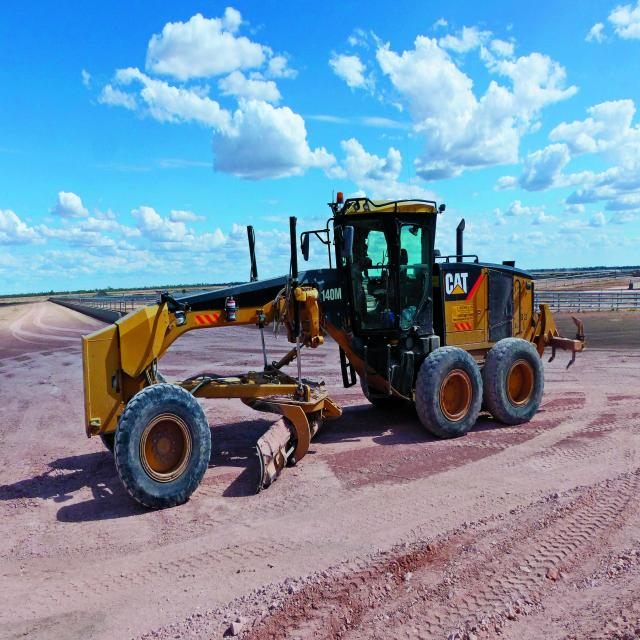Grader: (70, 187, 603, 506)
